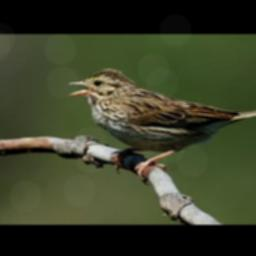Sparrow: (65, 67, 256, 185)
